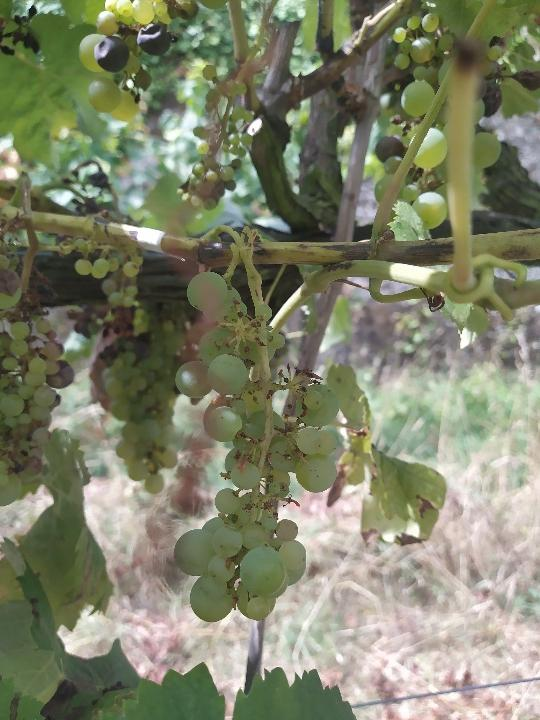grape: (171, 265, 347, 626)
